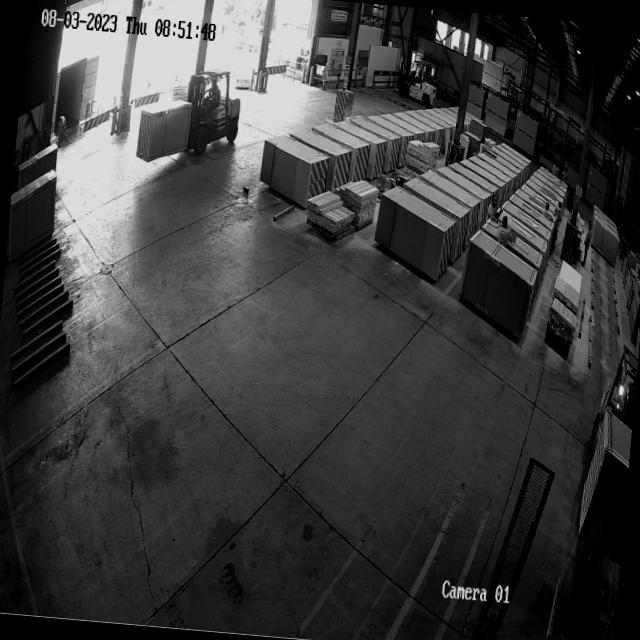driver: (207, 79, 221, 113)
forklift: (182, 60, 246, 165), (399, 56, 438, 108)
person: (496, 214, 514, 250), (487, 191, 502, 224), (54, 112, 66, 144), (552, 201, 562, 235), (584, 219, 592, 252), (542, 202, 552, 220), (478, 136, 487, 154)
